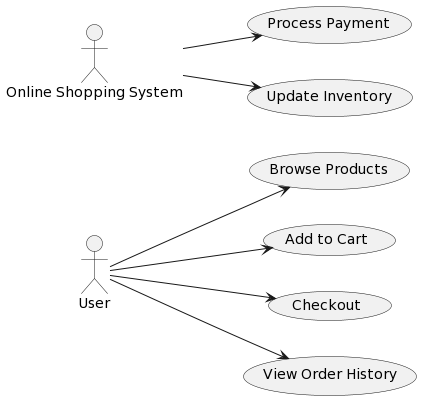actor: (75, 232, 111, 296), (78, 21, 112, 86)
association: (108, 184, 292, 267), (111, 278, 291, 361), (109, 273, 279, 304), (109, 244, 273, 271), (180, 32, 264, 52), (181, 73, 261, 93)
text: (261, 364, 398, 386), (4, 84, 190, 100), (263, 87, 395, 106), (264, 14, 392, 33), (266, 159, 390, 178), (280, 231, 372, 248), (289, 297, 371, 314), (73, 295, 115, 312)
use_case: (241, 354, 418, 397), (245, 77, 415, 119), (247, 150, 412, 192), (246, 4, 414, 45), (262, 223, 397, 257), (267, 289, 393, 322)
